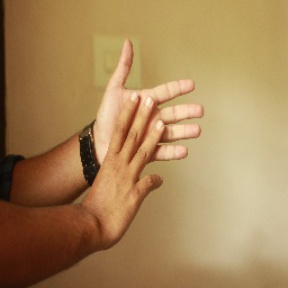M: (86, 36, 206, 222)
